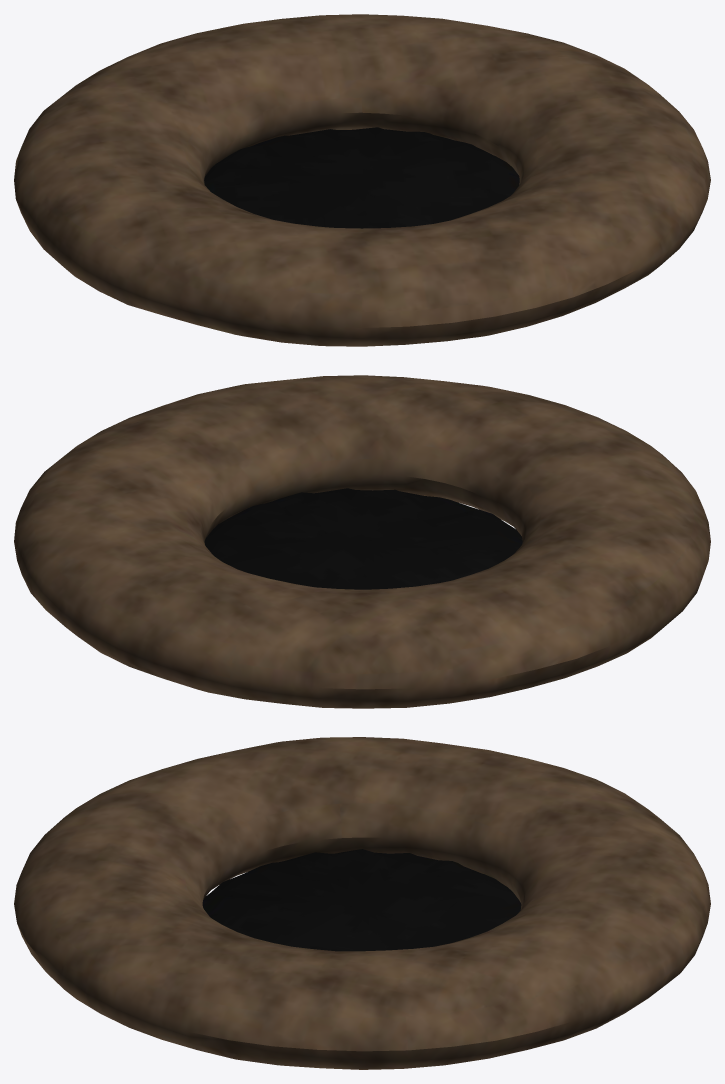
File: ant_hole.glb
3 views of the same model, one above another, from view 1: azimuth 30°, elevation 25°; view 2: azimuth 150°, elevation 25°; view 3: azimuth 270°, elevation 25° (orthographic).
Visible parts, largest first — view 1: ant_hole; view 2: ant_hole; view 3: ant_hole.
Part boxes in pixels (<box>): ant_hole: <box>14,14,710,346</box>; ant_hole: <box>14,375,710,708</box>; ant_hole: <box>14,737,710,1069</box>.
Size of the model in its own units: 1.5 by 0.2128 by 1.49.
Materials: 2 (2 with a texture image).
